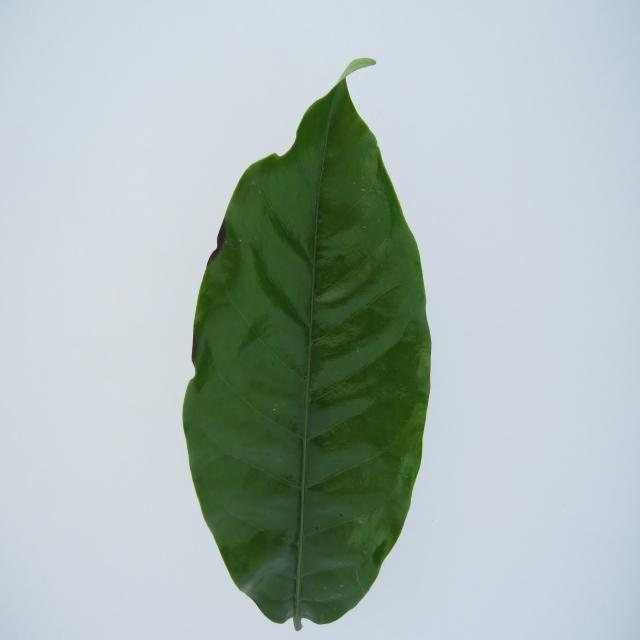DeficienciaNutricional-Calcio: (184, 58, 431, 630)
